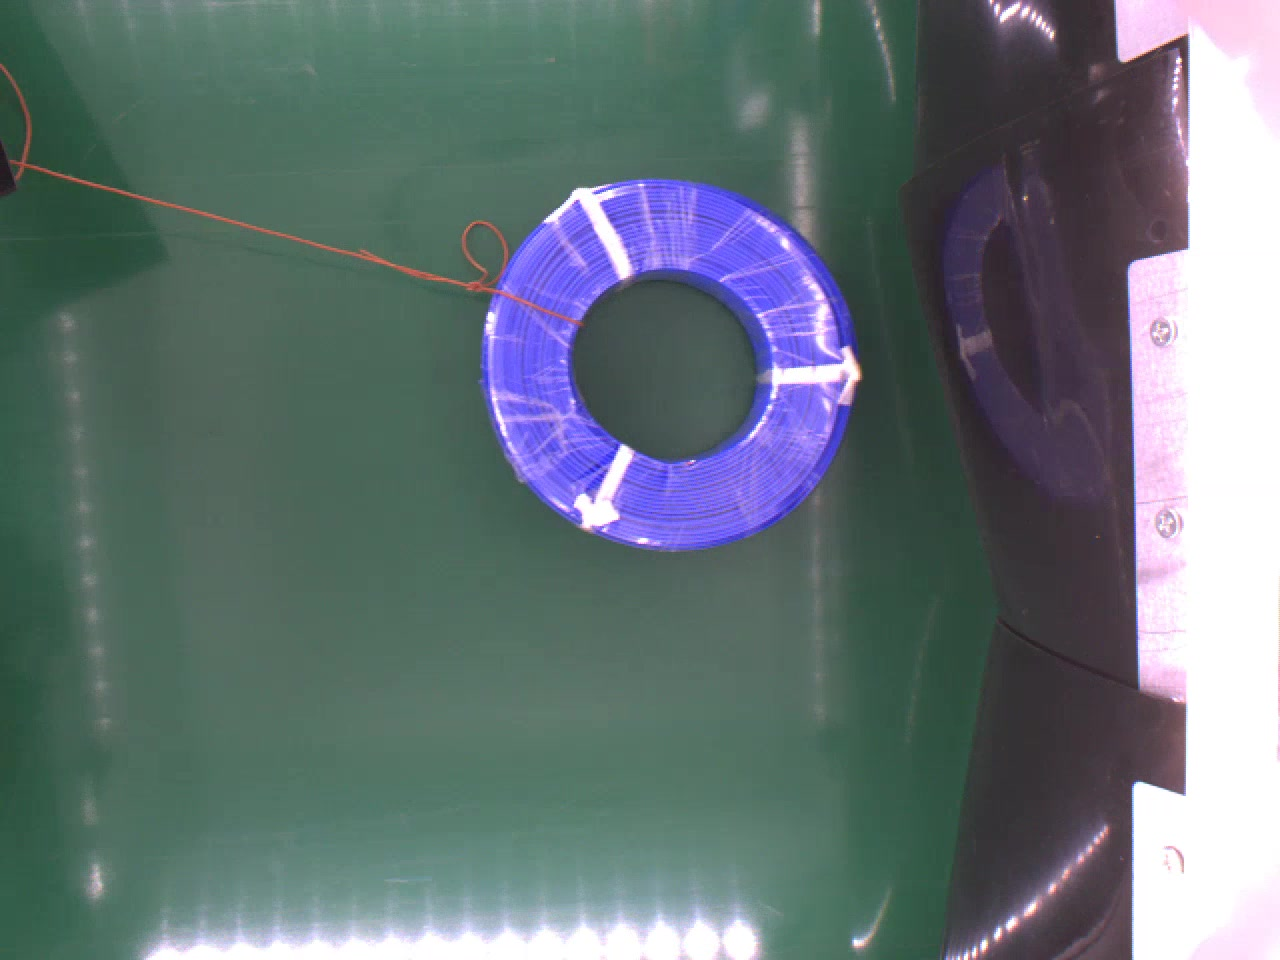blue: (478, 177, 858, 547)
